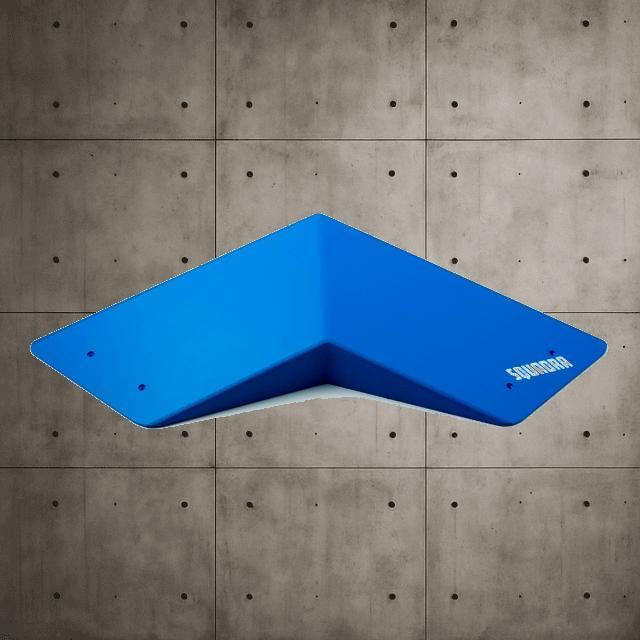Volume: (30, 212, 610, 430)
